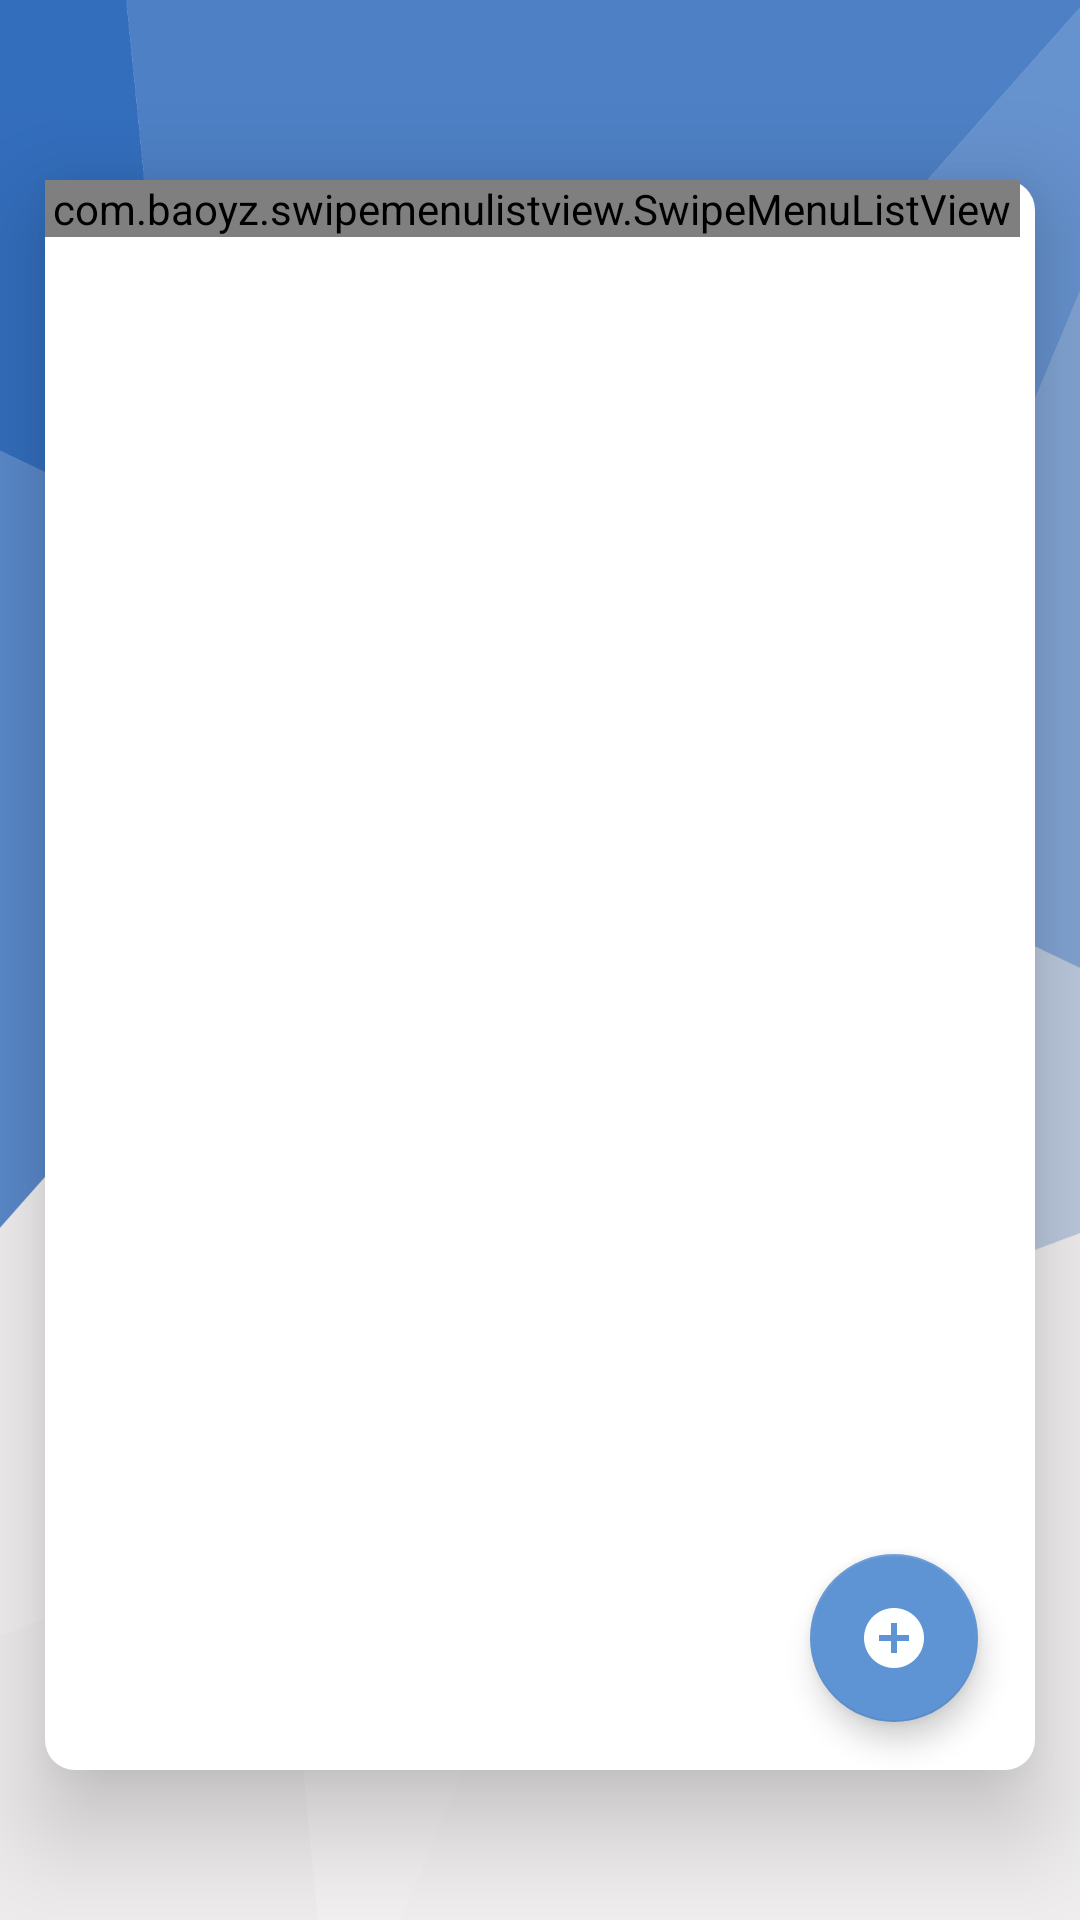

Named icons in this screenshot (1080*1920) and their bounding boxes, [x1, y1, x2, y2]:
add circle: [810, 1554, 978, 1722]
